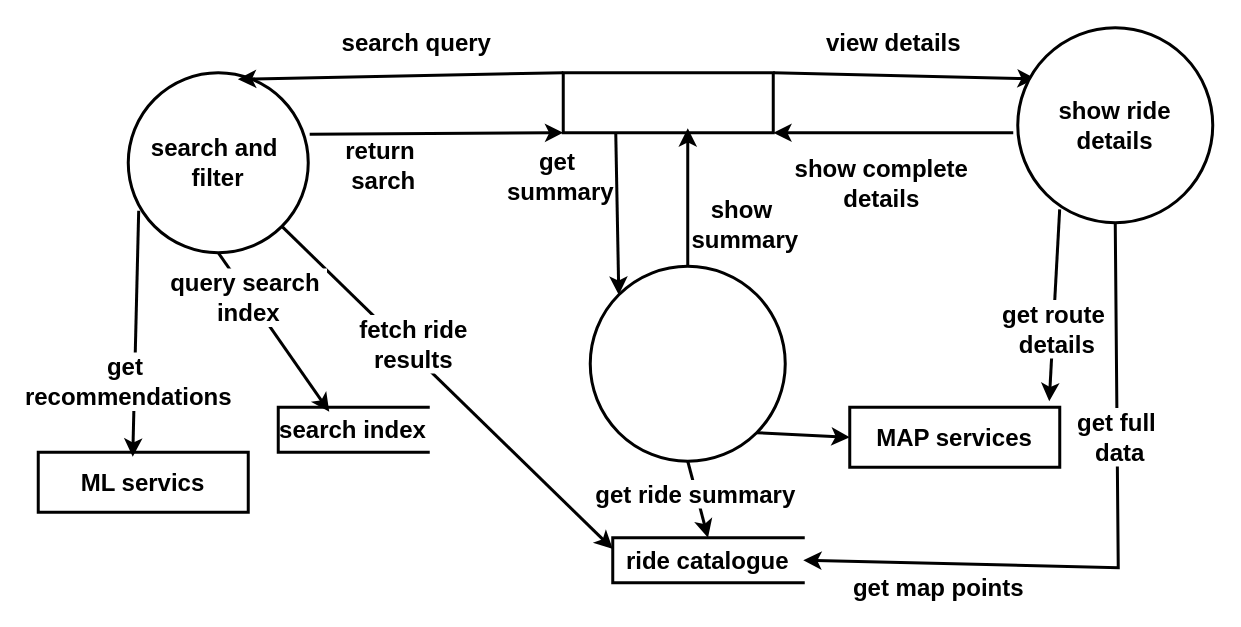
The diagram is 1241 pixels wide and 627 high, and some of its shapes have lost their labels. The shapes that lost their labels are listed below. From the top down, each one's box as (x1, y1, x2, y2) in pixels, then its label:
(561, 70, 774, 134): passenger
(588, 264, 786, 462): display ride summary
